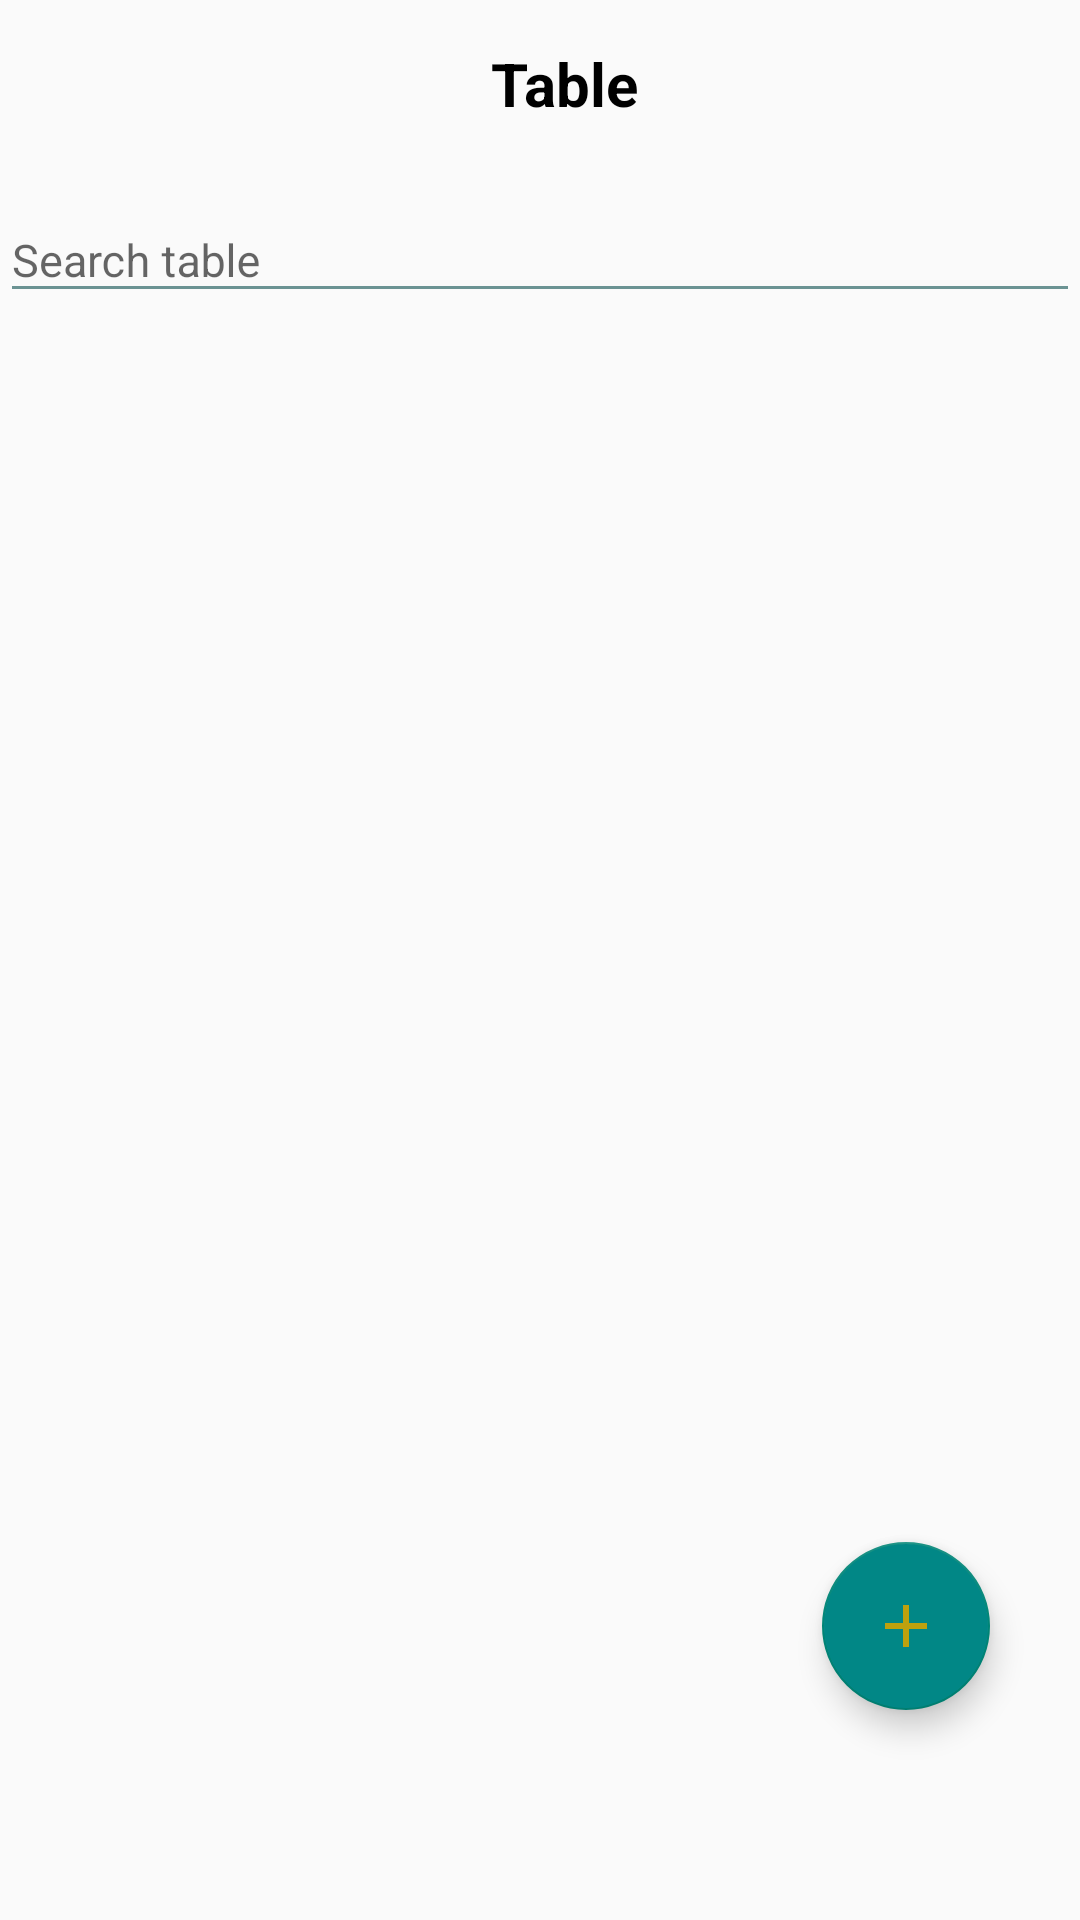

Where icons sit on this 1080px x 1920px app screen, as (x1, y1, x2, y2):
add: (822, 1542, 990, 1710)
